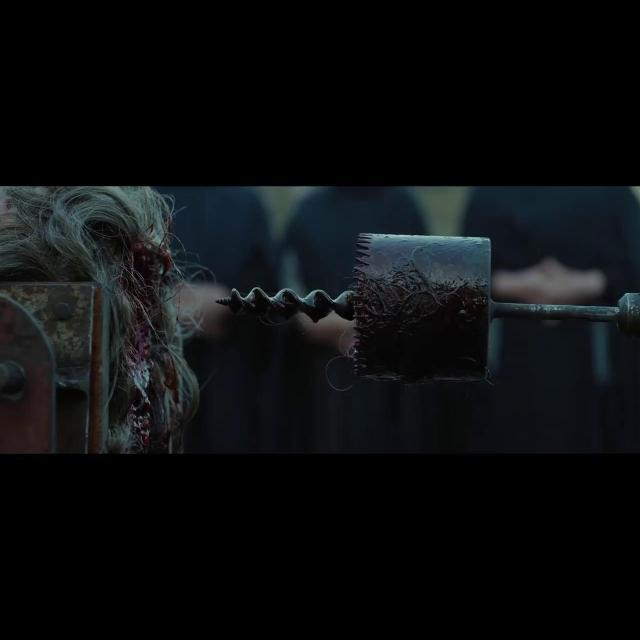blood: (216, 234, 490, 378), (83, 216, 200, 454)
